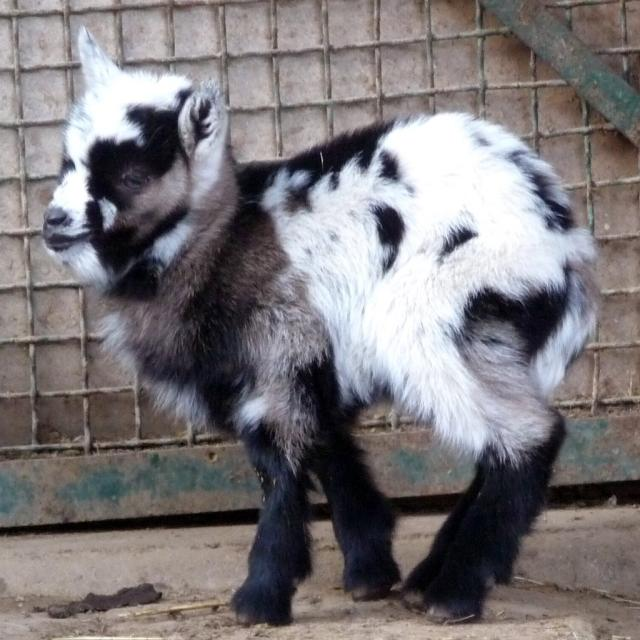Goat: (23, 56, 625, 640)
